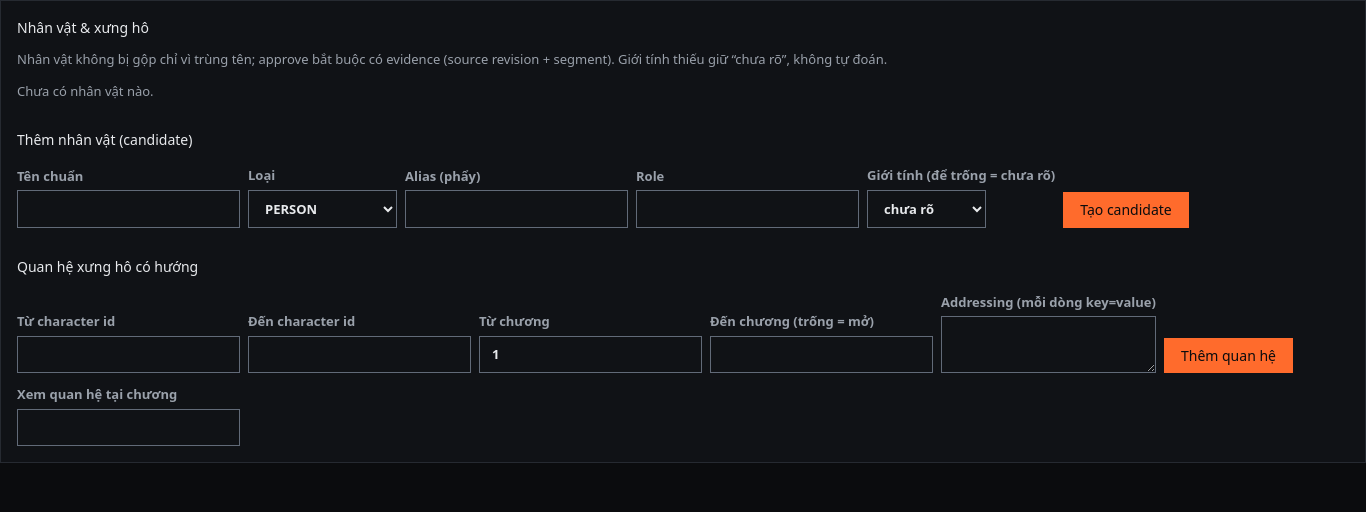
Scenario: CharacterManager (U09 part 3) › surfaces API errors as alerts
expect the text "Chưa có nhân vật nào." is shown: met, box [17,82,154,100]
Type "林动" into the field labelled "Tên chuẩn".
click(128, 209); type("林动")  # box [17,190,240,228]
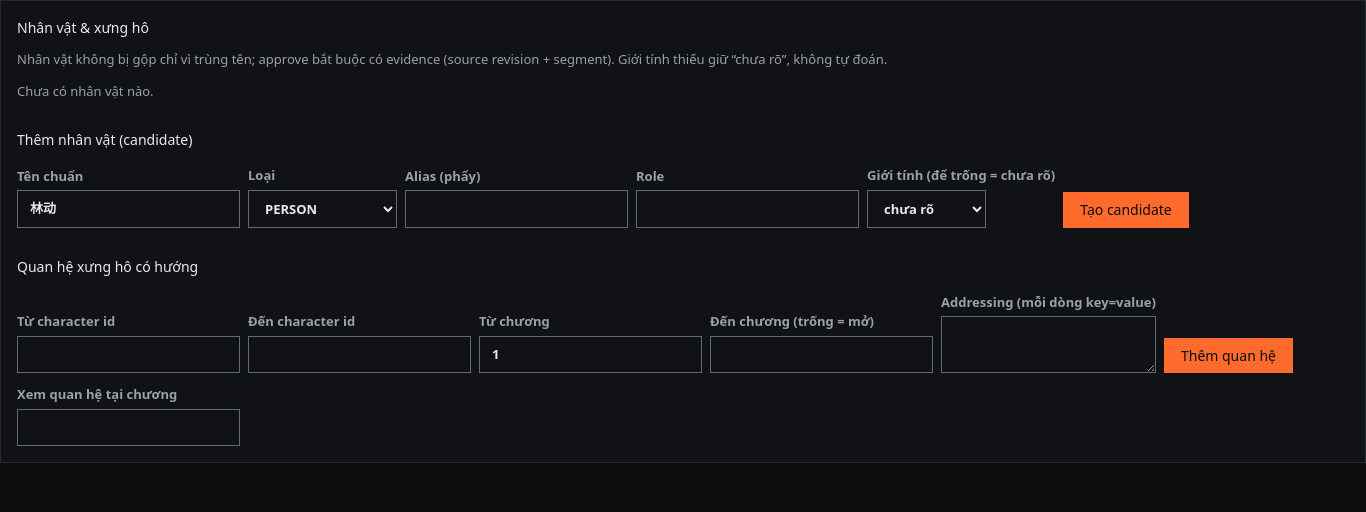
Click the button "Tạo candidate".
click(1126, 210)  # box [1063,192,1189,228]
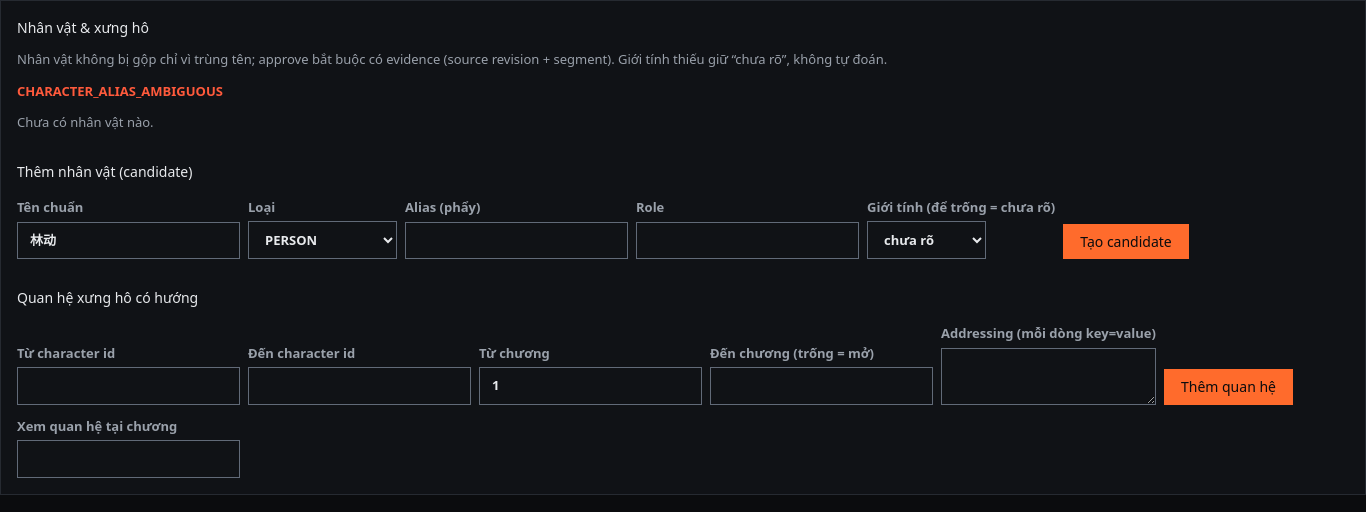
expect the message reads "CHARACTER_ALIAS_AMBIGUOUS": met, box [17,82,223,100]
